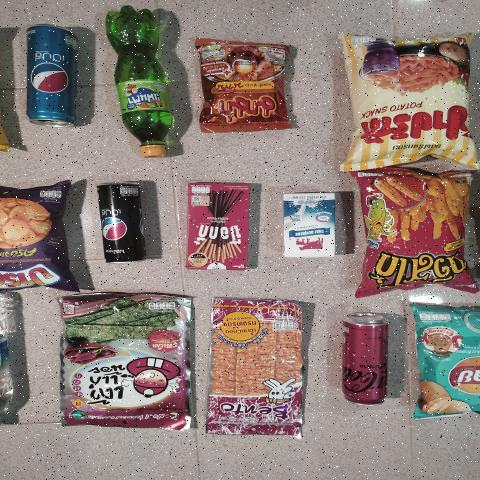bento_red: (206, 300, 305, 438)
coke_red: (342, 315, 387, 404)
fanta_green: (106, 9, 174, 158)
lay_blue: (409, 313, 480, 420)
mama: (200, 46, 291, 130)
paprika: (354, 38, 463, 161)
party_purple: (0, 173, 65, 290)
pepsi_black: (96, 182, 145, 265)
pepsi_blue: (20, 25, 87, 131)
pokki: (186, 184, 248, 269)
taokaenoi: (63, 286, 180, 426)
thai_denmark: (282, 194, 335, 258)
twisco: (365, 179, 468, 289)
